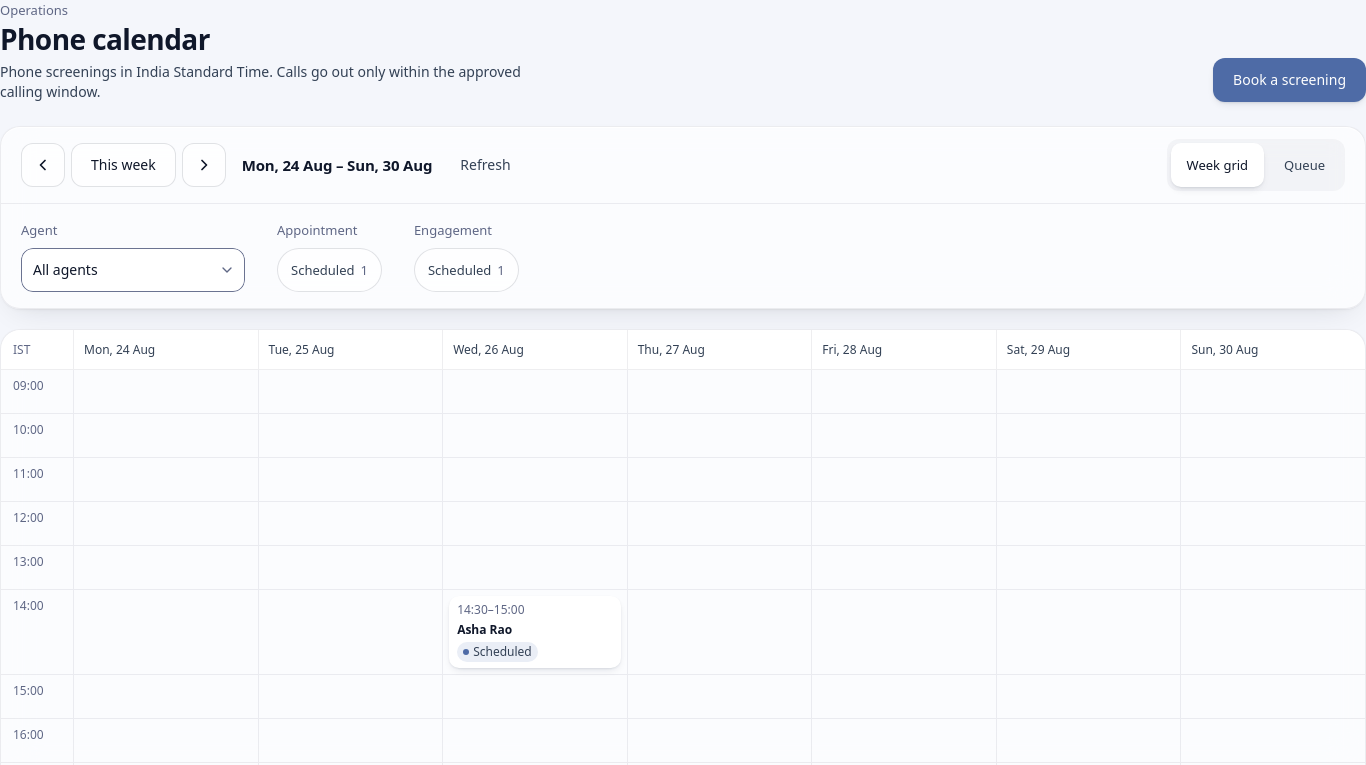
Test: booking › states the prerequisites warning instead of reporting a plain success
Click the button "Book a screening": (1290, 80) x1=1213 y1=58 x2=1365 y2=102
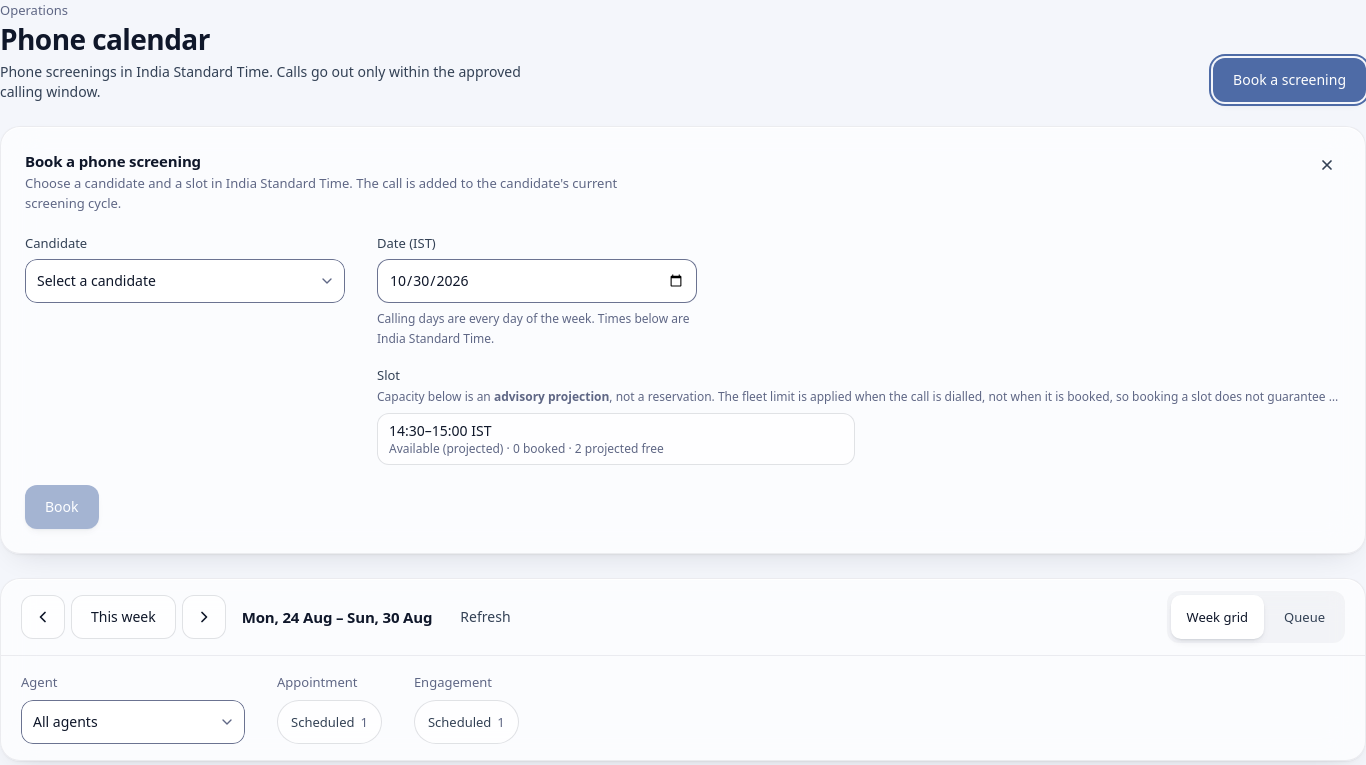
Result: the dropdown labelled "Candidate" is shown
Select "Asha Rao · Screening" in the dropdown labelled "Candidate": (185, 281) x1=25 y1=259 x2=345 y2=303
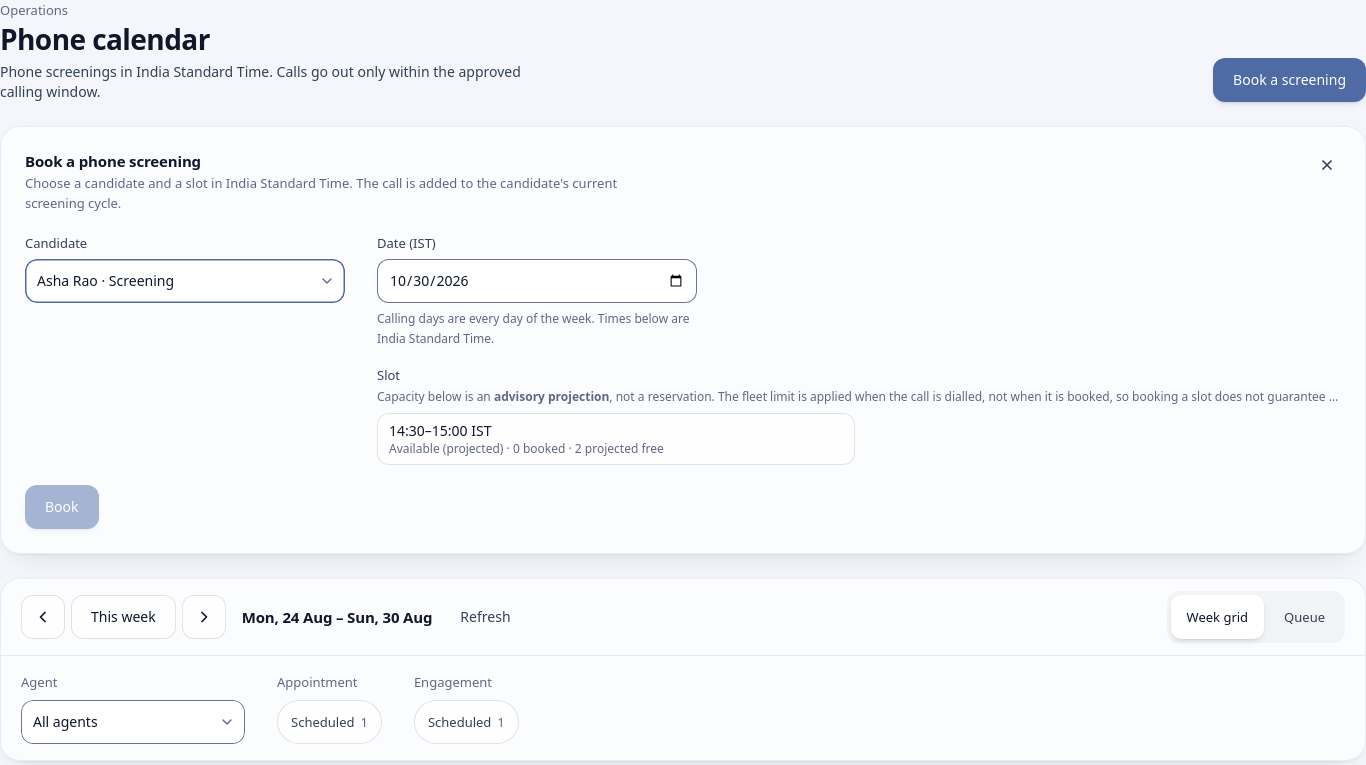
Click the radio button: (616, 439) x1=377 y1=413 x2=855 y2=465
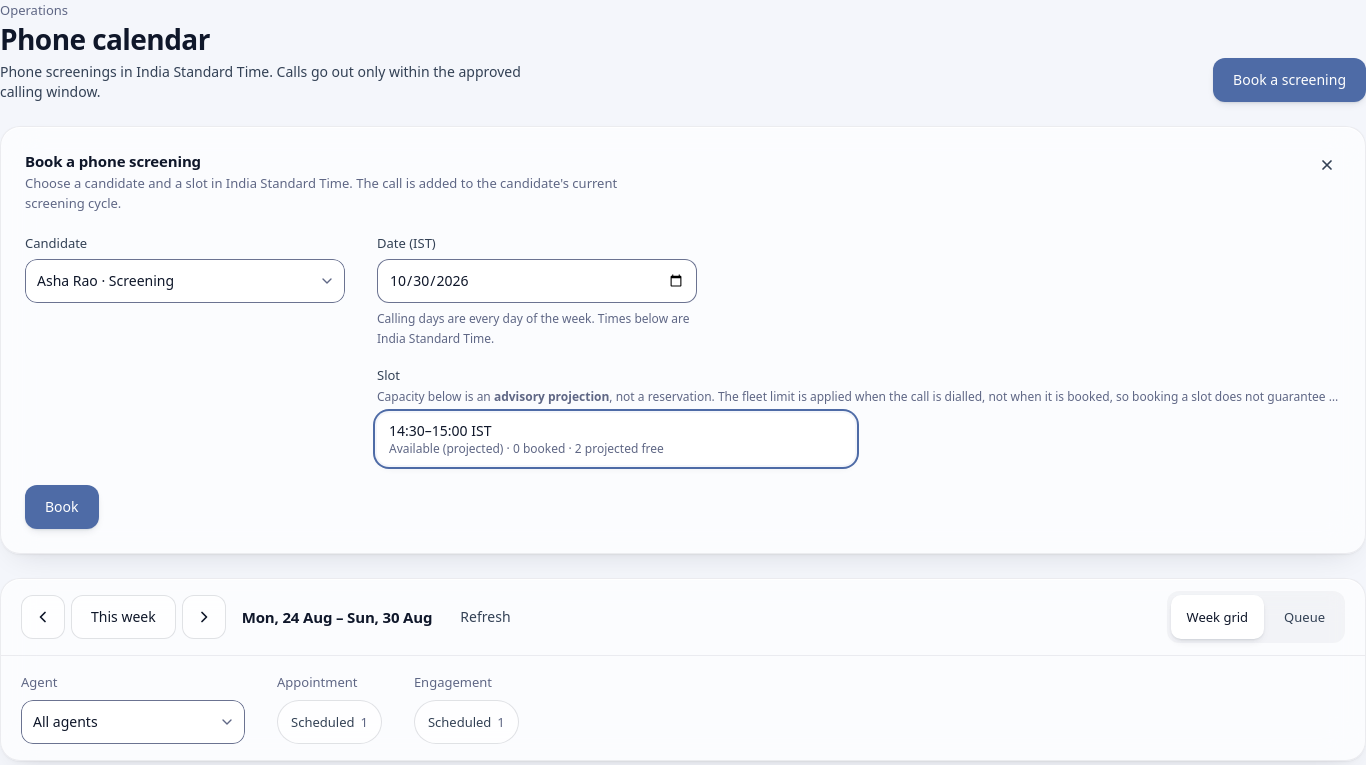
Click the button "Book": (62, 507) x1=25 y1=485 x2=98 y2=529
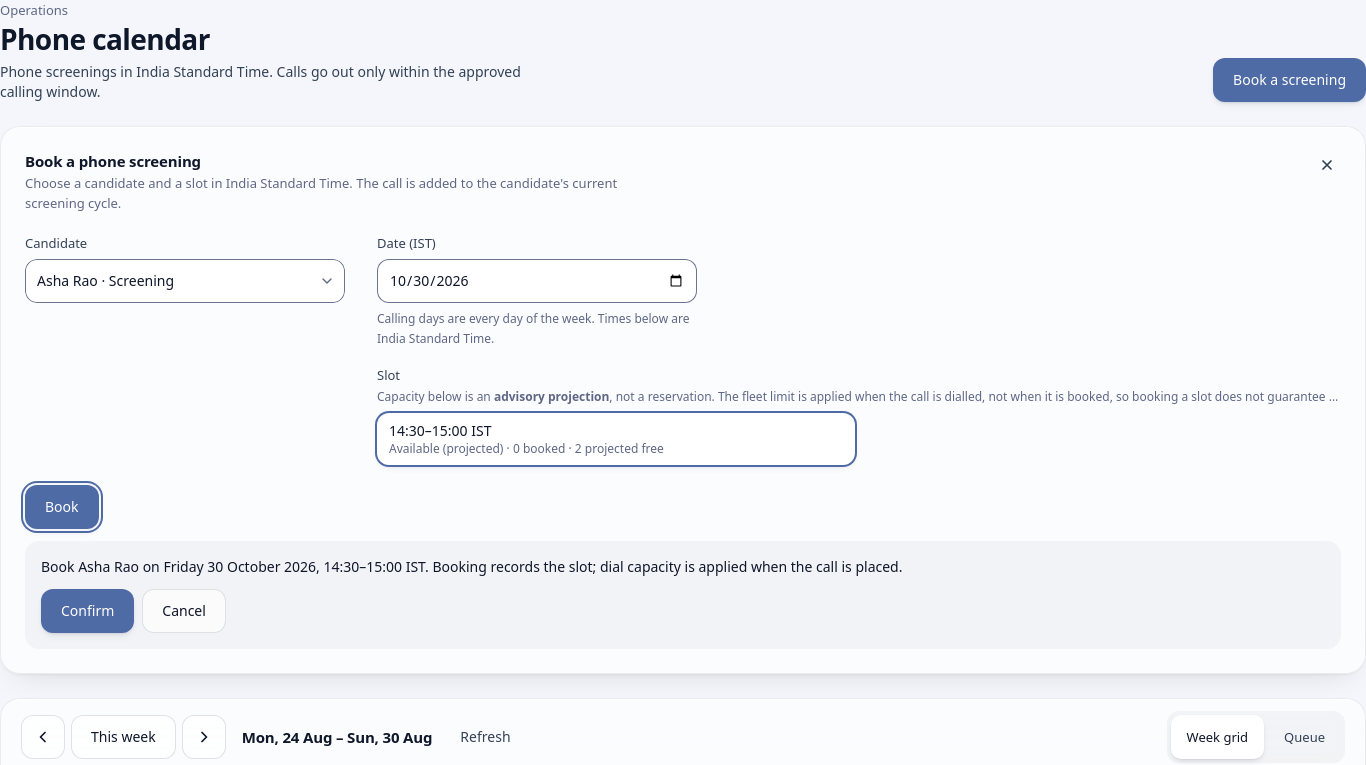
Click the button "Confirm": (88, 611) x1=41 y1=589 x2=134 y2=633
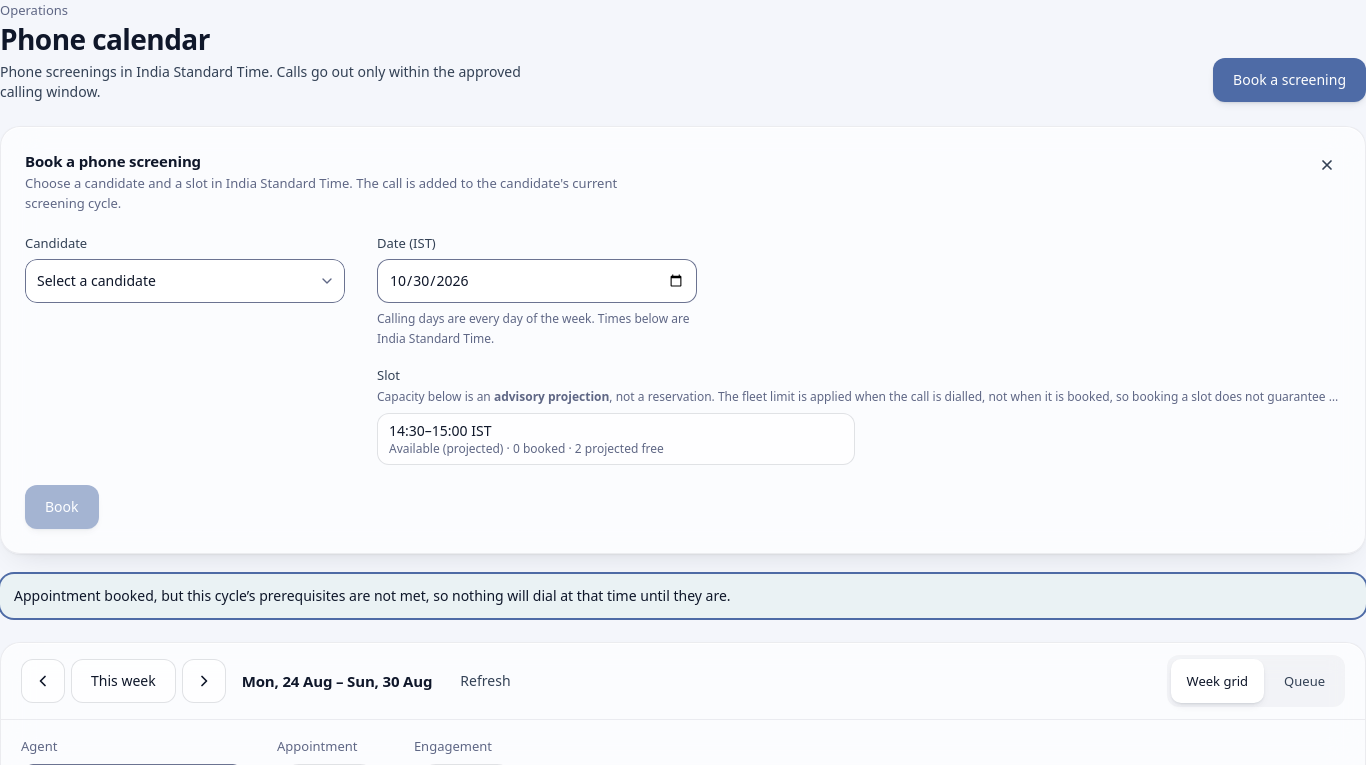
Result: the message shows "prerequisites are not met" at x1=14 y1=586 x2=731 y2=605
Result: the message shows "nothing will dial" at x1=14 y1=586 x2=731 y2=605
